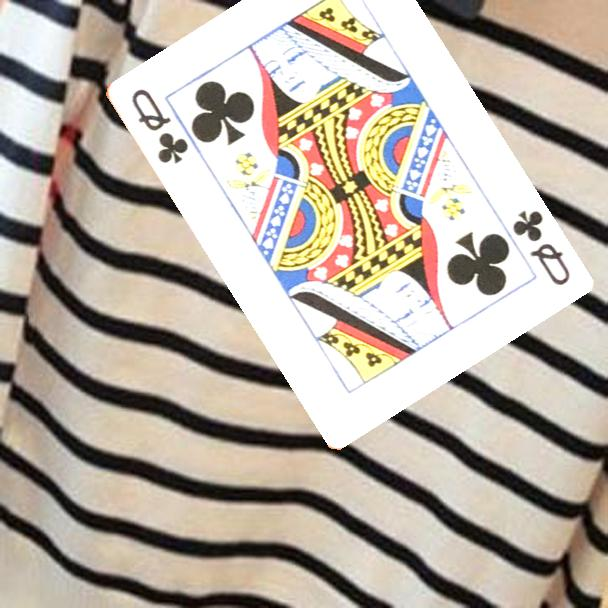c12: (508, 206, 573, 289), (126, 85, 191, 167)
